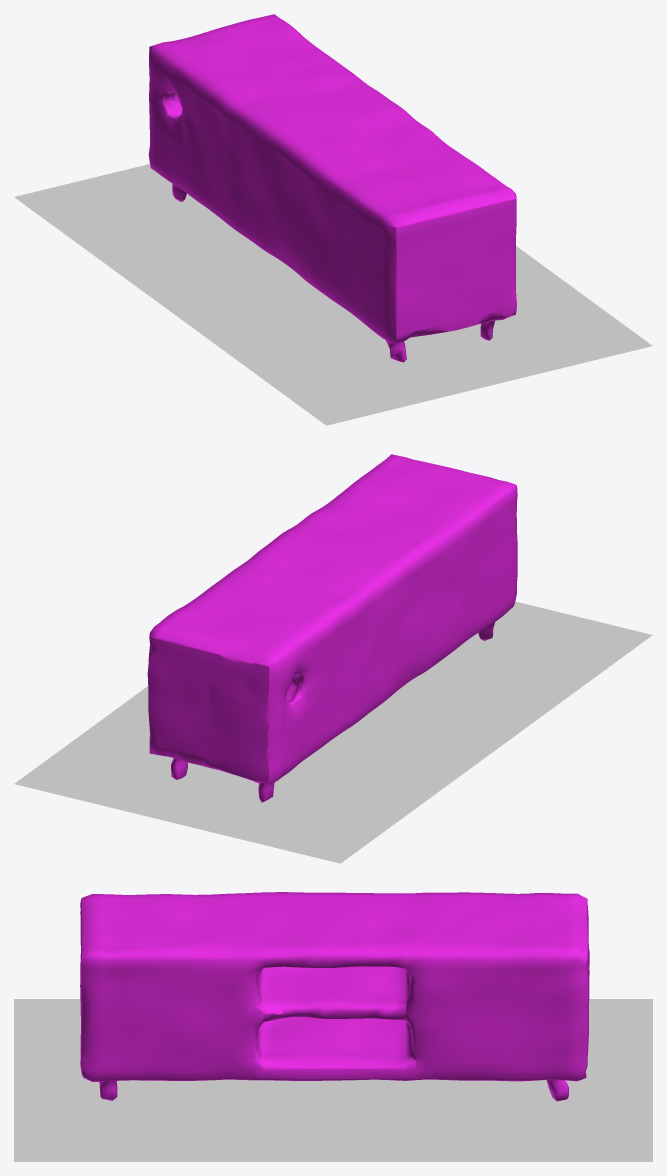
Rendered from tv_stand.glb.
3 renders of one model, top to bottom at view 1: azimuth 30°, elevation 25°; view 2: azimuth 150°, elevation 25°; view 3: azimuth 270°, elevation 25°, orthographic. The views are drawn at different scales.
Parts seen in each view (by area): view 1: tv_stand, world; view 2: tv_stand, world; view 3: tv_stand, world.
Boxes of the visible parts, bbox=[...] form: tv_stand: bbox=[148, 14, 516, 362]; world: bbox=[14, 164, 652, 425]; tv_stand: bbox=[147, 454, 517, 802]; world: bbox=[14, 601, 652, 863]; tv_stand: bbox=[80, 892, 589, 1101]; world: bbox=[14, 999, 652, 1161].
Size of the model in its own units: 0.5963 by 0.2749 by 0.988.
